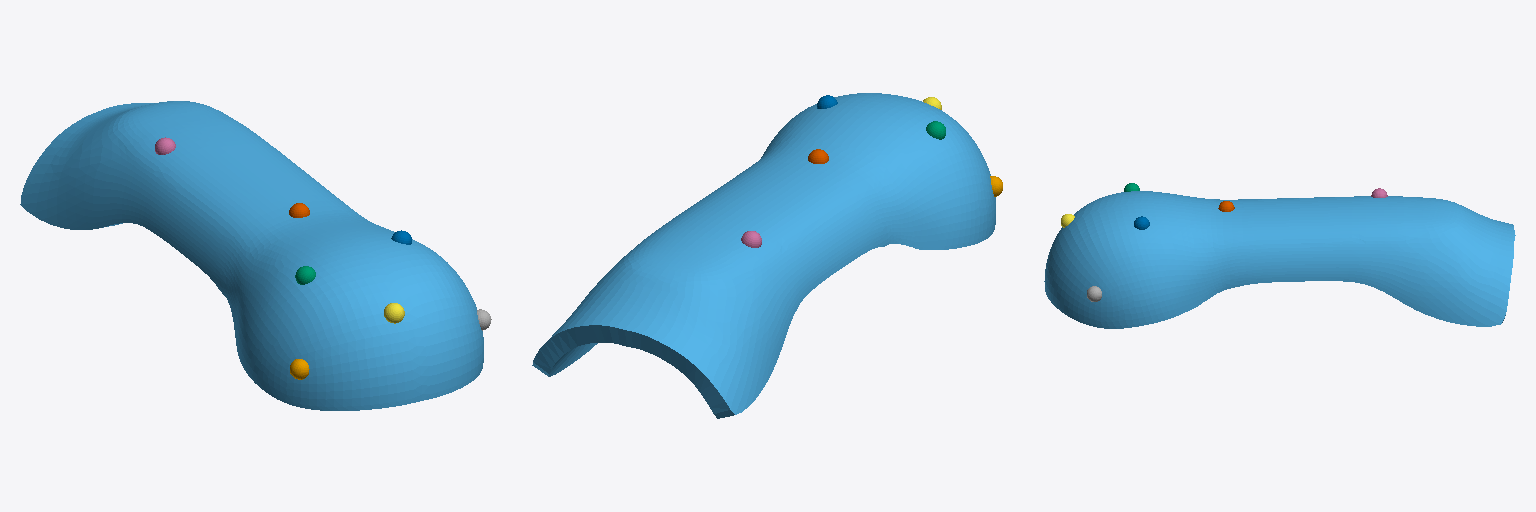
URDF robot description (link5):
<?xml version="1.0" ?>
<!-- =================================================================================== -->
<!-- |    This document was autogenerated by xacro from link5.xacro                    | -->
<!-- |    EDITING THIS FILE BY HAND IS NOT RECOMMENDED                                 | -->
<!-- =================================================================================== -->
<robot name="link5">
  <!-- [m] -->
  <link name="link5/base_link"/>
  <joint name="link5/base_joint" type="fixed">
    <origin rpy="0 0 0" xyz="0 0 0"/>
    <parent link="link5/base_link"/>
    <child link="link5/base_link_inertia"/>
  </joint>
  <link name="link5/base_link_inertia">
    <visual>
      <origin rpy="0 0 0" xyz="0 0 0"/>
      <geometry>
        <mesh filename="package://gentact_ros_tools/meshes/link5.stl" scale="1 1 1"/>
      </geometry>
    </visual>
  </link>
  <joint name="link5/sensor_0_joint" type="fixed">
    <origin rpy="0.488 0.000 -1.431" xyz="-0.032 -0.092 0.057"/>
    <axis xyz="-0.465 -0.066 0.883"/>
    <parent link="link5/base_link"/>
    <child link="link5/sensor_0"/>
  </joint>
  <link name="link5/sensor_0">
    <visual>
      <geometry>
        <sphere radius="0.005"/>
        <!-- [m] -->
      </geometry>
    </visual>
    <collision>
      <geometry>
        <sphere radius="0.005"/>
        <!-- [m] -->
      </geometry>
    </collision>
  </link>
  <joint name="link5/sensor_1_joint" type="fixed">
    <origin rpy="0.848 0.000 -0.160" xyz="-0.007 -0.131 0.048"/>
    <axis xyz="-0.12 -0.74 0.661"/>
    <parent link="link5/base_link"/>
    <child link="link5/sensor_1"/>
  </joint>
  <link name="link5/sensor_1">
    <visual>
      <geometry>
        <sphere radius="0.005"/>
        <!-- [m] -->
      </geometry>
    </visual>
    <collision>
      <geometry>
        <sphere radius="0.005"/>
        <!-- [m] -->
      </geometry>
    </collision>
  </link>
  <joint name="link5/sensor_2_joint" type="fixed">
    <origin rpy="0.280 -0.000 1.591" xyz="0.023 -0.086 0.060"/>
    <axis xyz="0.276 0.006 0.961"/>
    <parent link="link5/base_link"/>
    <child link="link5/sensor_2"/>
  </joint>
  <link name="link5/sensor_2">
    <visual>
      <geometry>
        <sphere radius="0.005"/>
        <!-- [m] -->
      </geometry>
    </visual>
    <collision>
      <geometry>
        <sphere radius="0.005"/>
        <!-- [m] -->
      </geometry>
    </collision>
  </link>
  <joint name="link5/sensor_3_joint" type="fixed">
    <origin rpy="0.023 0.000 -1.950" xyz="-0.002 -0.034 0.059"/>
    <axis xyz="-0.021 0.008 1.0"/>
    <parent link="link5/base_link"/>
    <child link="link5/sensor_3"/>
  </joint>
  <link name="link5/sensor_3">
    <visual>
      <geometry>
        <sphere radius="0.005"/>
        <!-- [m] -->
      </geometry>
    </visual>
    <collision>
      <geometry>
        <sphere radius="0.005"/>
        <!-- [m] -->
      </geometry>
    </collision>
  </link>
  <joint name="link5/sensor_4_joint" type="fixed">
    <origin rpy="0.339 -0.000 -1.569" xyz="-0.020 0.060 0.059"/>
    <axis xyz="-0.333 -0.001 0.943"/>
    <parent link="link5/base_link"/>
    <child link="link5/sensor_4"/>
  </joint>
  <link name="link5/sensor_4">
    <visual>
      <geometry>
        <sphere radius="0.005"/>
        <!-- [m] -->
      </geometry>
    </visual>
    <collision>
      <geometry>
        <sphere radius="0.005"/>
        <!-- [m] -->
      </geometry>
    </collision>
  </link>
  <joint name="link5/sensor_5_joint" type="fixed">
    <origin rpy="1.334 0.000 1.053" xyz="0.049 -0.115 0.025"/>
    <axis xyz="0.845 -0.481 0.235"/>
    <parent link="link5/base_link"/>
    <child link="link5/sensor_5"/>
  </joint>
  <link name="link5/sensor_5">
    <visual>
      <geometry>
        <sphere radius="0.005"/>
        <!-- [m] -->
      </geometry>
    </visual>
    <collision>
      <geometry>
        <sphere radius="0.005"/>
        <!-- [m] -->
      </geometry>
    </collision>
  </link>
  <joint name="link5/sensor_6_joint" type="fixed">
    <origin rpy="1.323 0.000 -1.059" xyz="-0.049 -0.116 0.023"/>
    <axis xyz="-0.845 -0.475 0.246"/>
    <parent link="link5/base_link"/>
    <child link="link5/sensor_6"/>
  </joint>
  <link name="link5/sensor_6">
    <visual>
      <geometry>
        <sphere radius="0.005"/>
        <!-- [m] -->
      </geometry>
    </visual>
    <collision>
      <geometry>
        <sphere radius="0.005"/>
        <!-- [m] -->
      </geometry>
    </collision>
  </link>
</robot>

--- Facts derived from the render (not from the file) ---
3 views of the same robot in one strip: view 1: azimuth 30°, elevation 25°; view 2: azimuth 150°, elevation 25°; view 3: azimuth 270°, elevation 25° (orthographic).
Robot: link5 — 9 links, 8 joints (8 fixed); root link link5/base_link; default pose: all joints at 0.
Visible links, largest first — view 1: link5/base_link_inertia; view 2: link5/base_link_inertia; view 3: link5/base_link_inertia.
Link boxes in pixels (<box>): link5/base_link_inertia: <box>20,101,483,410</box>; link5/base_link_inertia: <box>532,93,995,418</box>; link5/base_link_inertia: <box>1044,191,1515,328</box>.
Bounding box of the posed robot: 0.1154 × 0.2894 × 0.0623 m (x, y, z).
Meshes: 1 distinct files referenced, 1 mesh visuals loaded (1 binary STL).